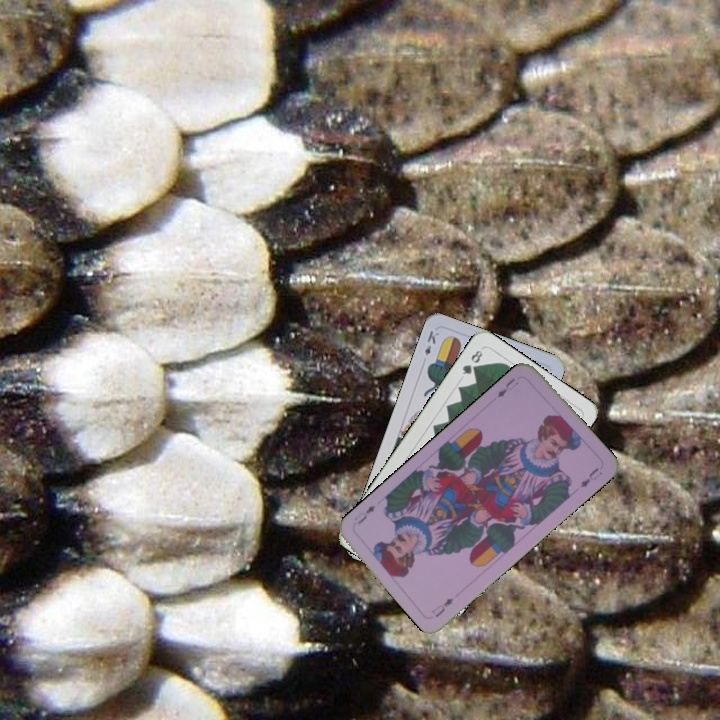EK: (421, 327, 442, 358)
EU: (428, 594, 457, 620), (493, 374, 518, 400)
G8: (458, 344, 485, 377)
